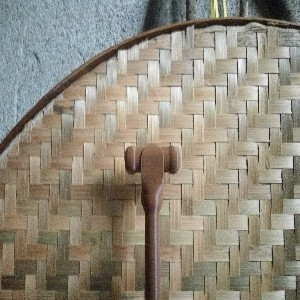palu: (124, 144, 180, 300)
